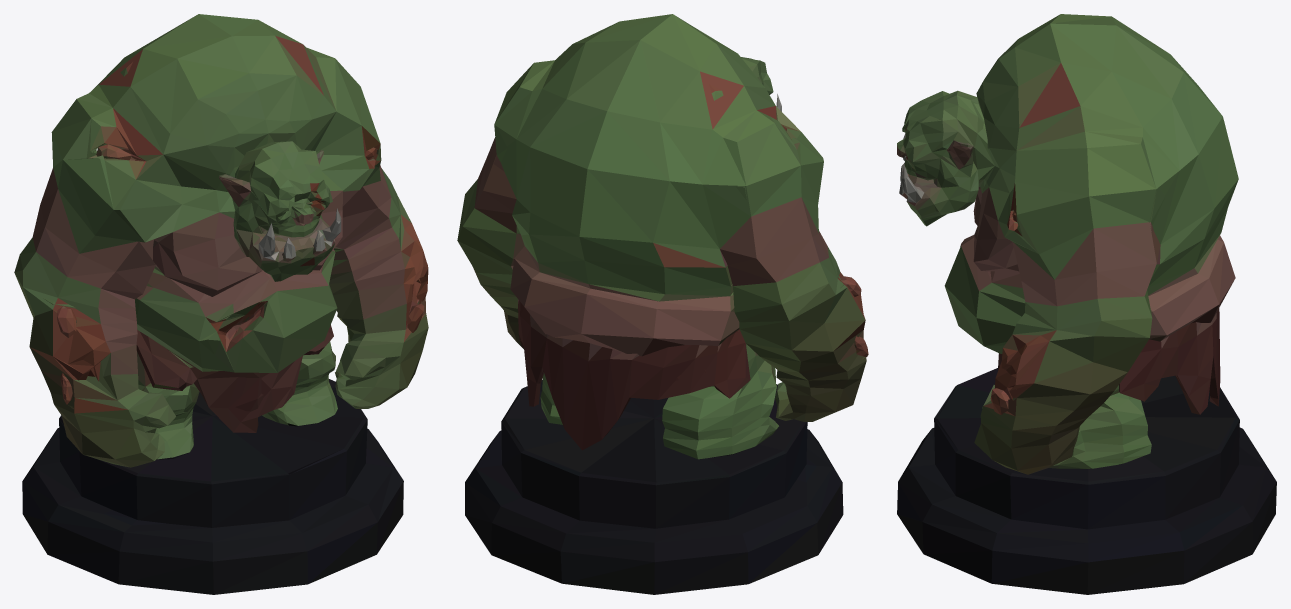
The model's file is troll.glb.
3 renders of one model, left to right at view 1: azimuth 30°, elevation 25°; view 2: azimuth 150°, elevation 25°; view 3: azimuth 270°, elevation 25°, orthographic.
Visible parts, largest first — view 1: mesh_node; view 2: mesh_node; view 3: mesh_node.
Part boxes in pixels (x1,y1,x2,y2): mesh_node: (14,14,428,594); mesh_node: (457,14,868,594); mesh_node: (897,14,1276,594).
Bounding box in the file's own units: 0.7969 × 1 × 0.7012.
